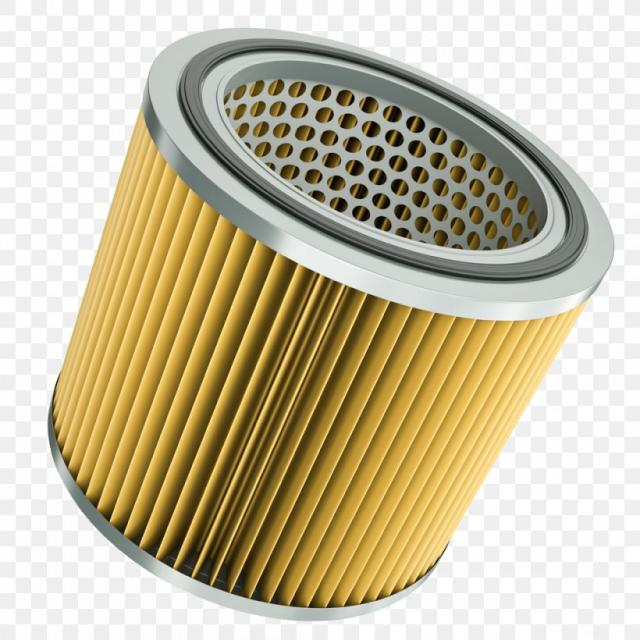oil_filter: (54, 16, 608, 610)
